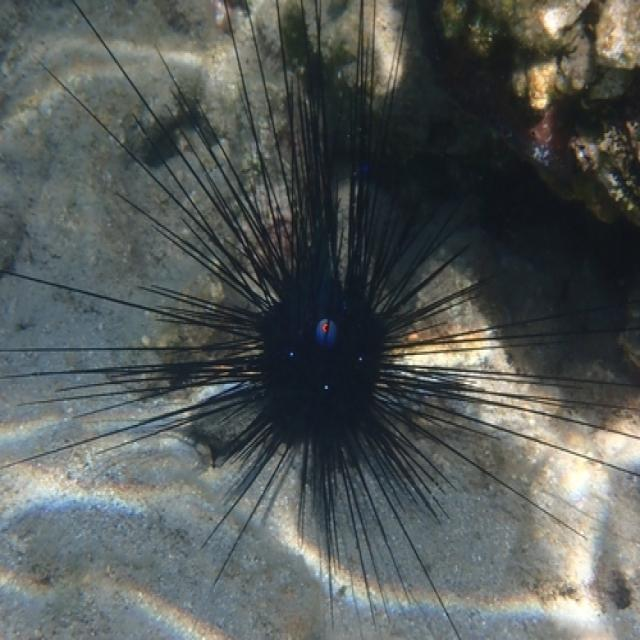Urchin: (13, 2, 640, 630)
